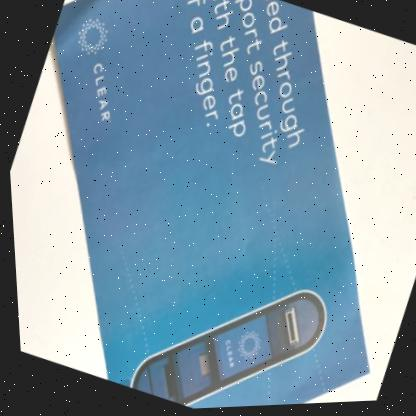Paper: (52, 0, 363, 410)
